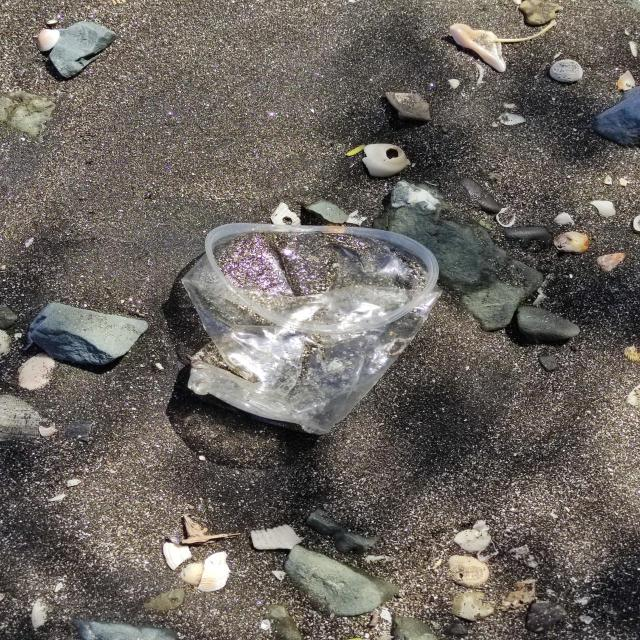litter: (178, 223, 439, 435)
